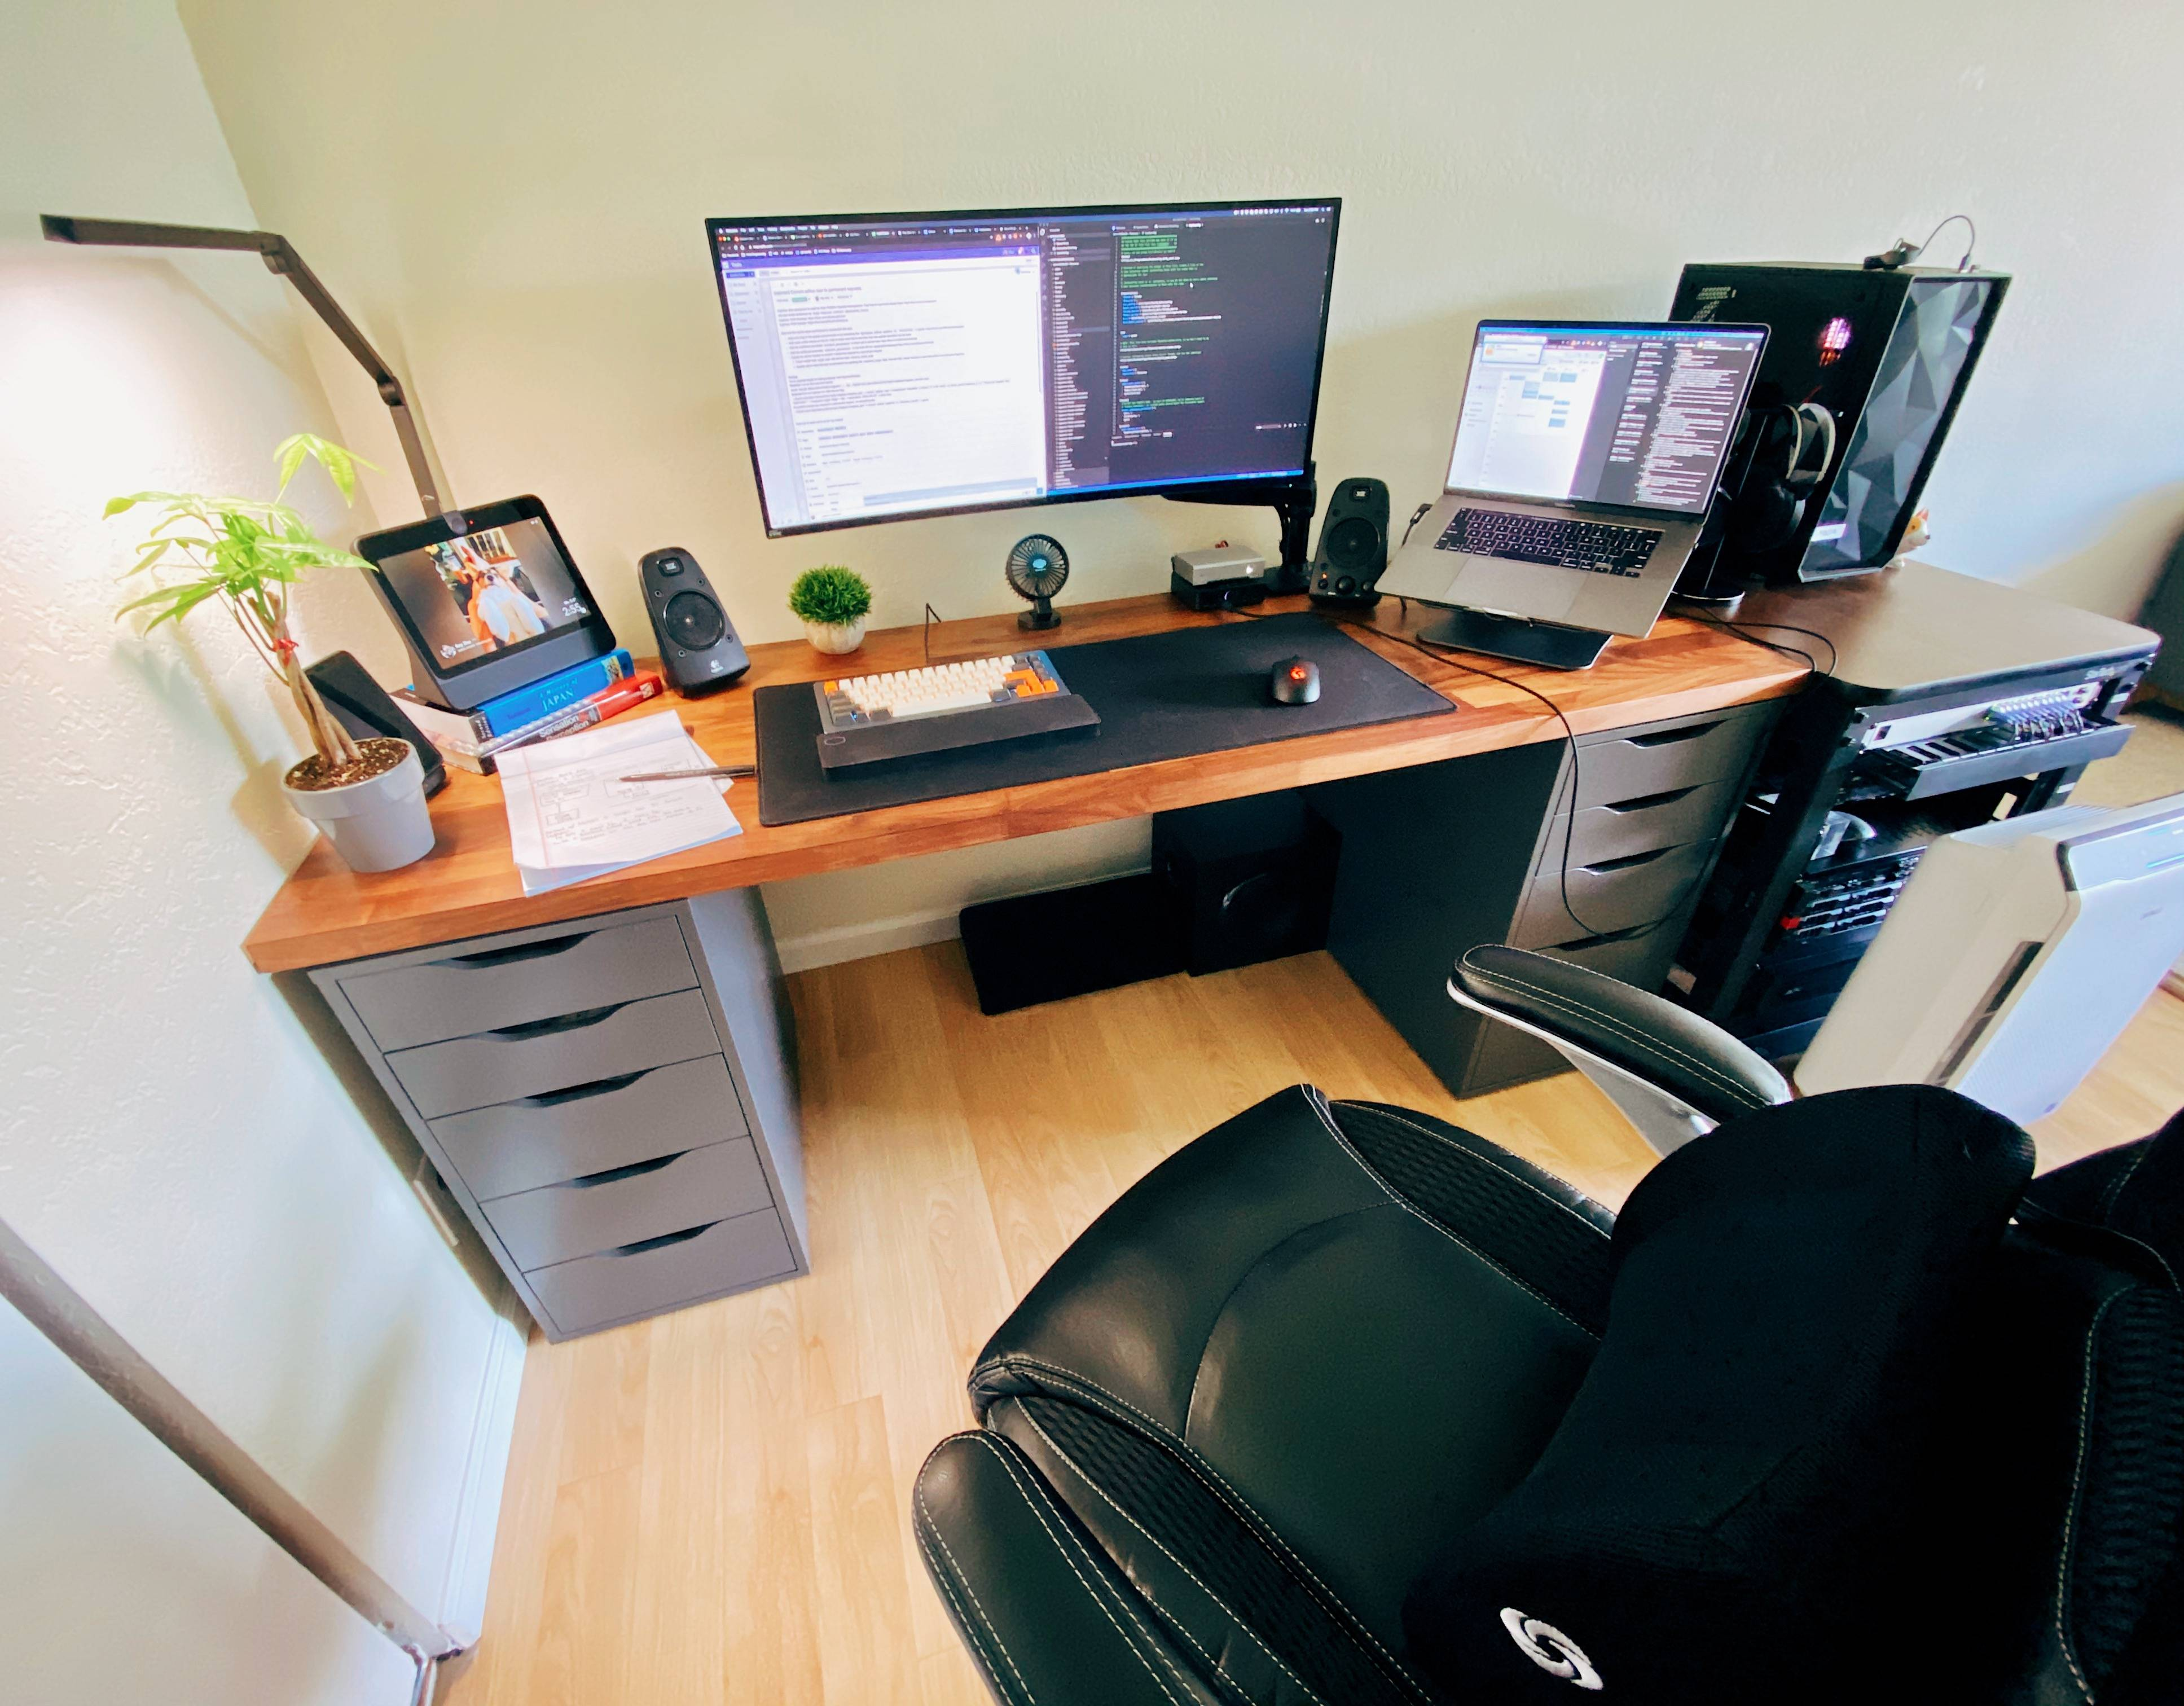Book: (390, 646, 665, 775)
Cellphone: (294, 649, 445, 784)
Cellphone Charger (Generic): (406, 766, 456, 796)
Chair (Generic): (893, 998, 2184, 1706)
Decoration (Miniature): (1883, 513, 1936, 571)
Decoration (Plant): (117, 426, 438, 885), (791, 567, 874, 653)
Desk (Generic): (245, 573, 1826, 1364)
Desktop (Generic): (1672, 255, 2007, 596)
External Sound Card (Pre-amplifier): (1168, 571, 1267, 615)
External Speakers (Generic): (1147, 800, 1344, 984), (635, 541, 764, 699), (1305, 475, 1393, 619)
Fan (Desk): (1005, 534, 1072, 630)
Footrest: (964, 869, 1189, 1016)
Headphones: (1704, 404, 1838, 557)
Keyboard (Generic): (814, 647, 1101, 782)
Lamp (Desk): (34, 197, 479, 552)
Laptop (OSX): (1372, 317, 1778, 638)
Laptop Stand: (1413, 601, 1627, 679)
Monitor (Landscape): (693, 199, 1347, 541)
Monitor Arm: (1159, 473, 1315, 608)
Mouse (Gaming): (1273, 651, 1321, 706)
Mousepad (Generic): (759, 603, 1455, 830)
Notebook: (495, 711, 745, 897)
Storage Drawer: (307, 894, 810, 1342), (1347, 688, 1790, 1105)
Tablet (Generic): (351, 493, 619, 702)
